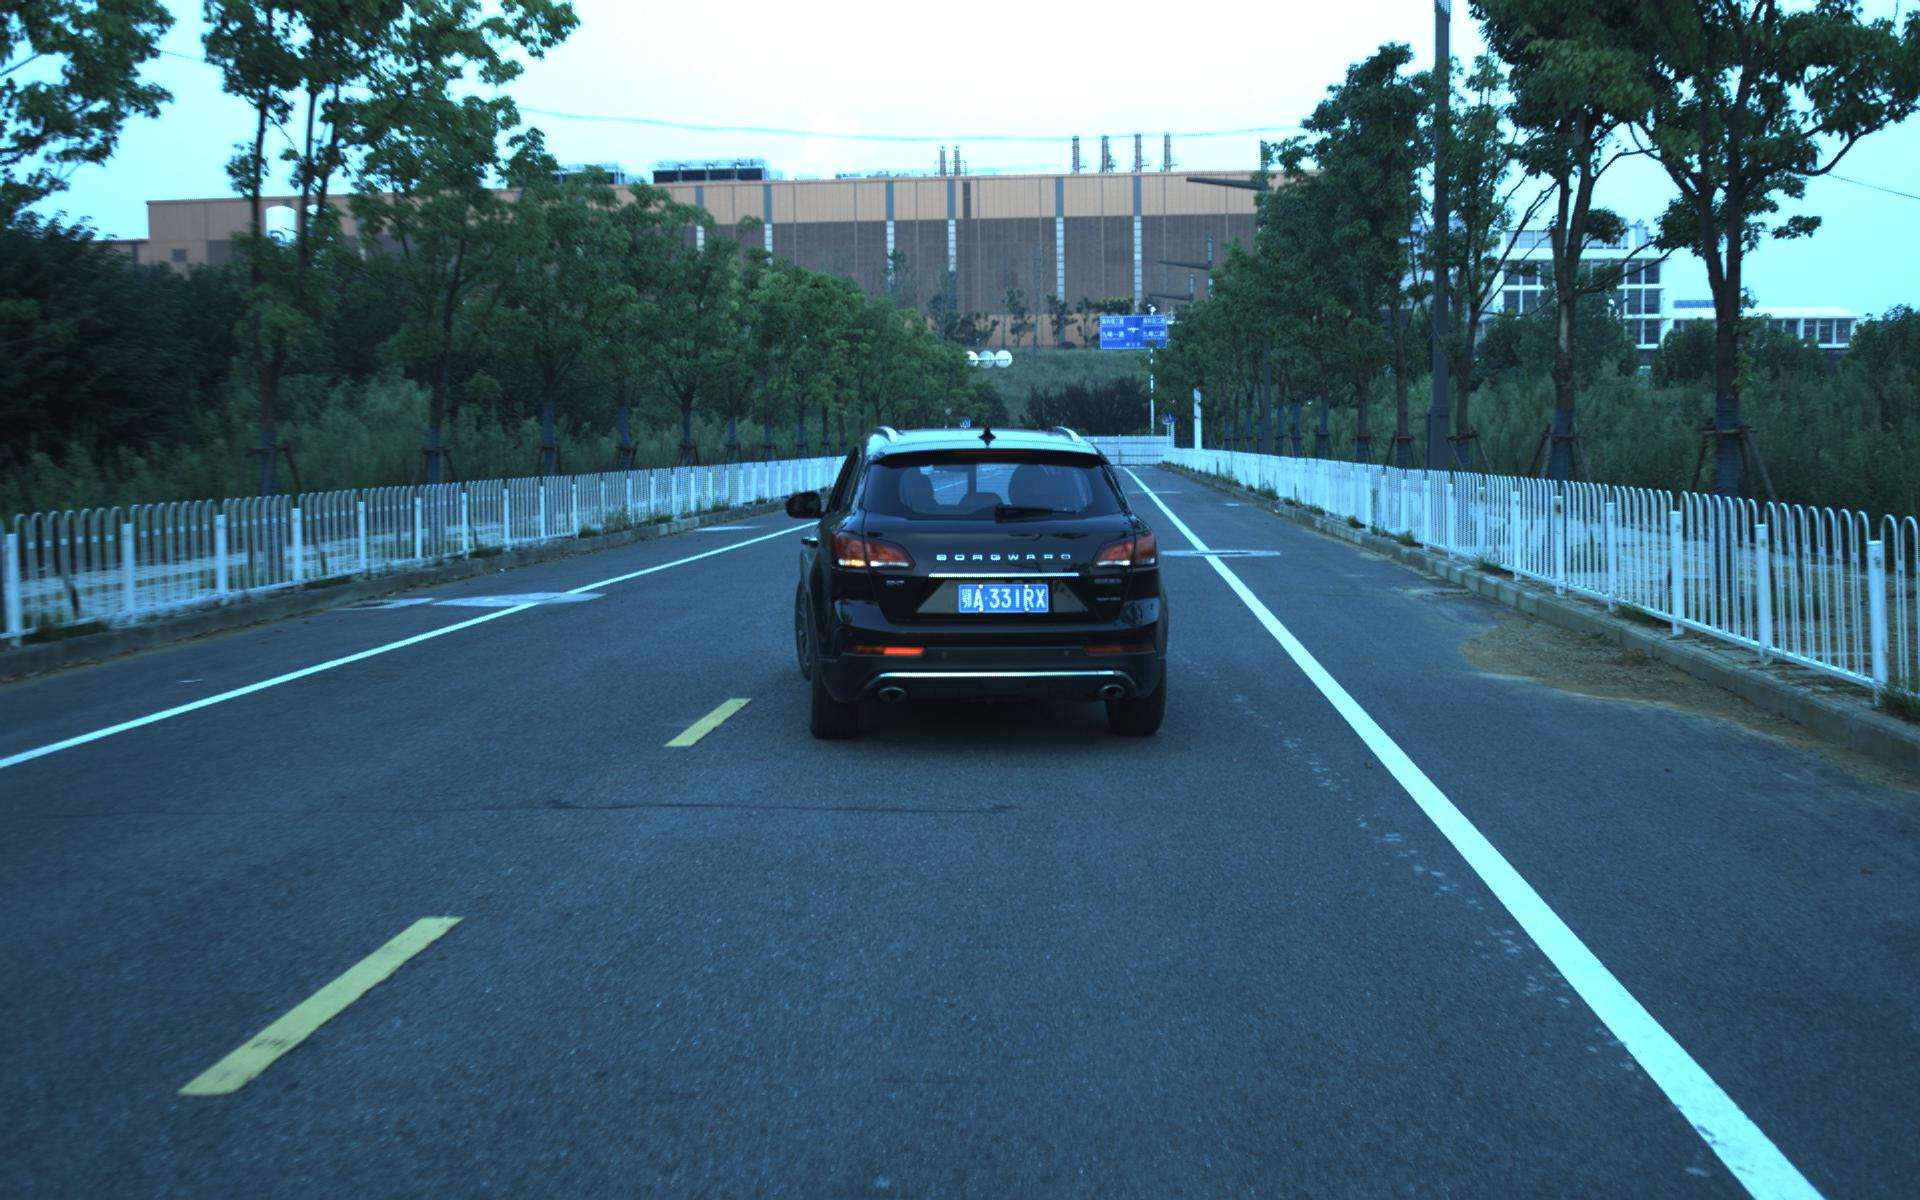Car: (791, 415, 1174, 751)
